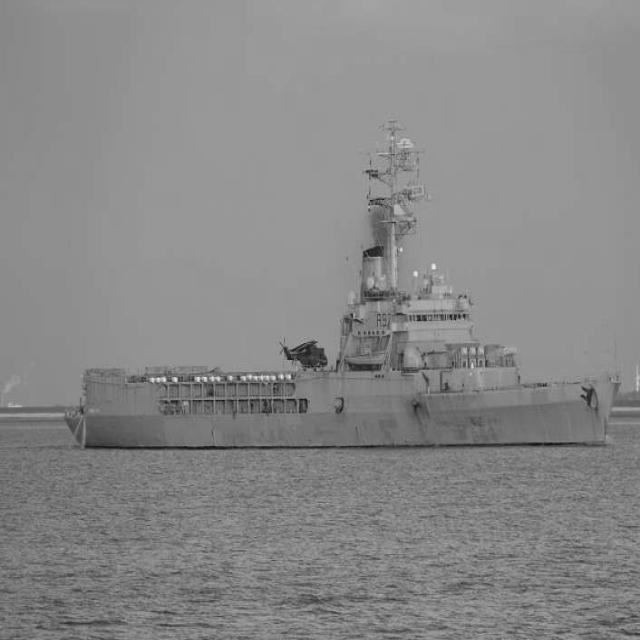Portanaves: (63, 119, 624, 450)
